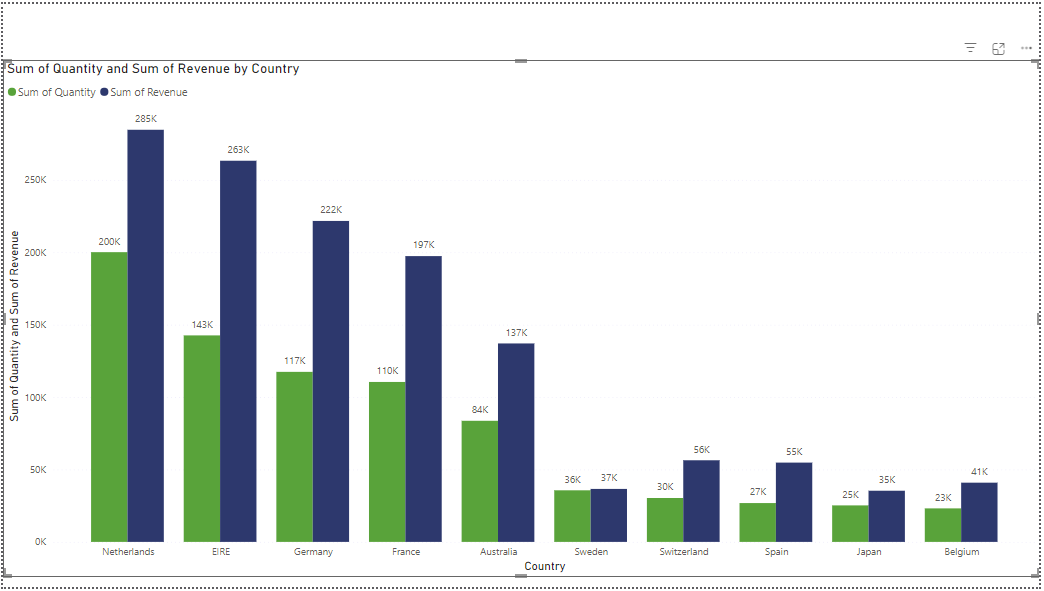

Layout of this report page (visuals, bound fields, positions):
{"tool":"powerbi","page":{"name":"Q2 - Top 10 Countries by Revenue (Excl. UK)","canvas":[1280,720],"ordinal":1},"visuals":[{"type":"clusteredColumnChart","fields":{"Y":["Sum(Online Retail.Quantity)","Sum(Online Retail.Revenue)"],"Category":["Online Retail.Country"]},"box":[0,56.4,1280,638.1],"z":0}]}

Visuals, with their boxes on the page's 1280x720 design canvas (x1, y1, x2, y2). These are canvas units, not pixel positions in the 1044x591 screenshot, which may show the page scaled, cropped or inside an application window:
clusteredColumnChart - Sum(Online Retail.Quantity) x Sum(Online Retail.Revenue): <region>0, 56, 1280, 694</region>
